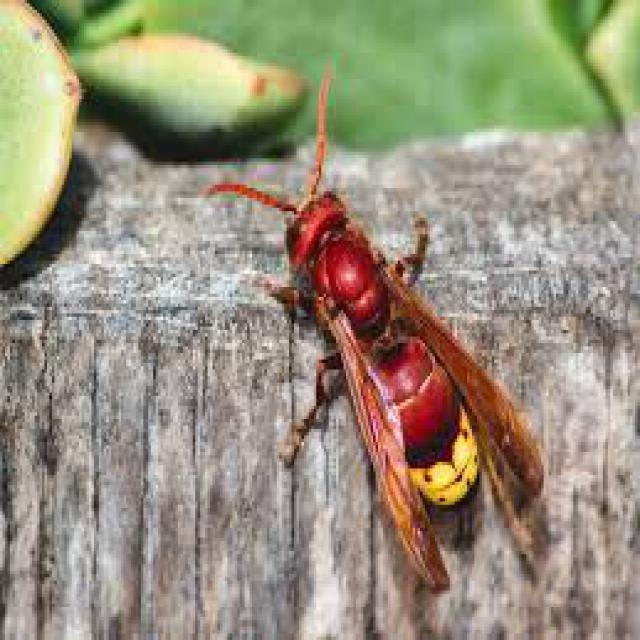Vespa Orientalis: (174, 38, 576, 624)
